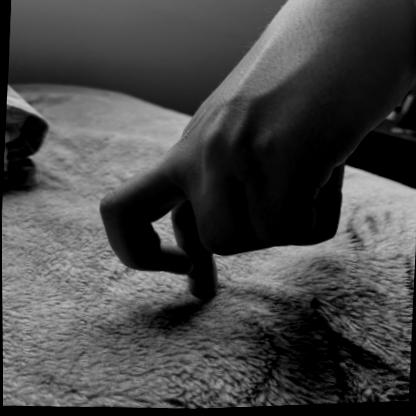P: (84, 0, 416, 324)
